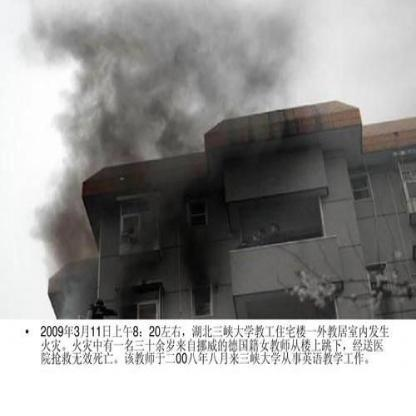smoke: (28, 0, 297, 58), (64, 54, 298, 107), (52, 108, 206, 154), (38, 154, 89, 262)
